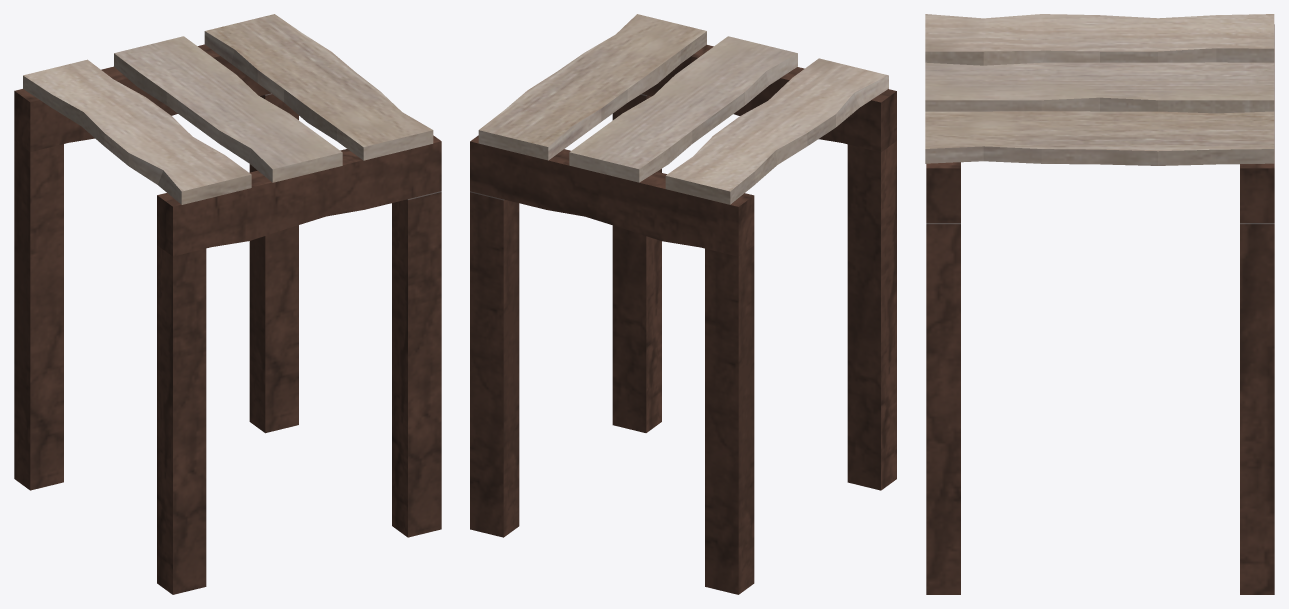
File: Wooden platform3.glb
3 renders of one model, left to right at view 1: azimuth 30°, elevation 25°; view 2: azimuth 150°, elevation 25°; view 3: azimuth 270°, elevation 25°, orthographic. The views are drawn at different scales.
Visible parts, largest first — view 1: Cube.008, Cube.011, Cube.010, Cube.009; view 2: Cube.008, Cube.011, Cube.010, Cube.009; view 3: Cube.008, Cube.010, Cube.009.
Boxes of the visible parts, x1,y1,x2,y2 form: Cube.008: (23, 14, 433, 204); Cube.011: (14, 141, 206, 594); Cube.010: (249, 93, 441, 537); Cube.009: (14, 44, 441, 256); Cube.008: (478, 14, 888, 204); Cube.011: (705, 141, 896, 594); Cube.010: (470, 94, 661, 537); Cube.009: (470, 45, 896, 256); Cube.008: (925, 14, 1274, 165); Cube.010: (926, 223, 1274, 594); Cube.009: (926, 24, 1274, 222).
Size of the model in its own units: 5.04 by 7.2 by 5.16.
Materials: 1 (1 with a texture image).
